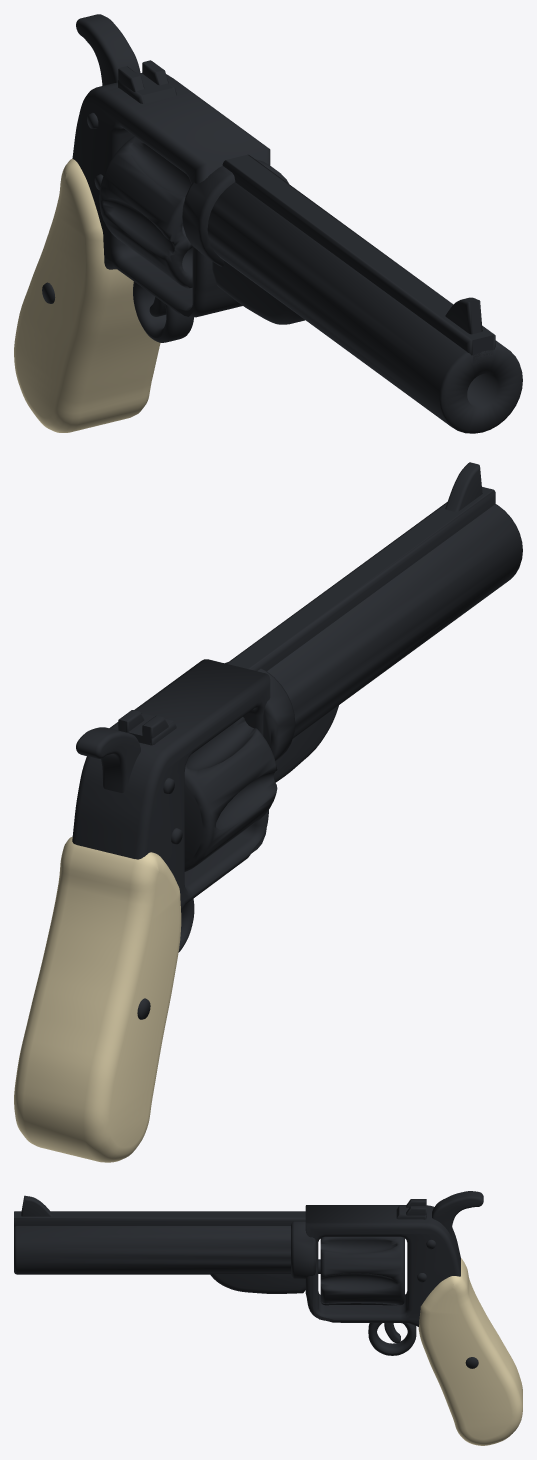
Rendered from revolver.glb.
3 renders of one model, top to bottom at view 1: azimuth 30°, elevation 25°; view 2: azimuth 150°, elevation 25°; view 3: azimuth 270°, elevation 25°, orthographic. The views are drawn at different scales.
Parts seen in each view (by area): view 1: Revolver_Steel, Revolver_Grip; view 2: Revolver_Steel, Revolver_Grip; view 3: Revolver_Steel, Revolver_Grip.
Part boxes in pixels (left/top/right/bottom): Revolver_Steel: left=42, top=14, right=522, bottom=433; Revolver_Grip: left=14, top=159, right=160, bottom=432; Revolver_Steel: left=72, top=462, right=522, bottom=1019; Revolver_Grip: left=14, top=836, right=181, bottom=1162; Revolver_Steel: left=14, top=1191, right=483, bottom=1368; Revolver_Grip: left=418, top=1258, right=522, bottom=1445.
Size of the model in its own units: 0.34 by 1.17 by 2.23.
